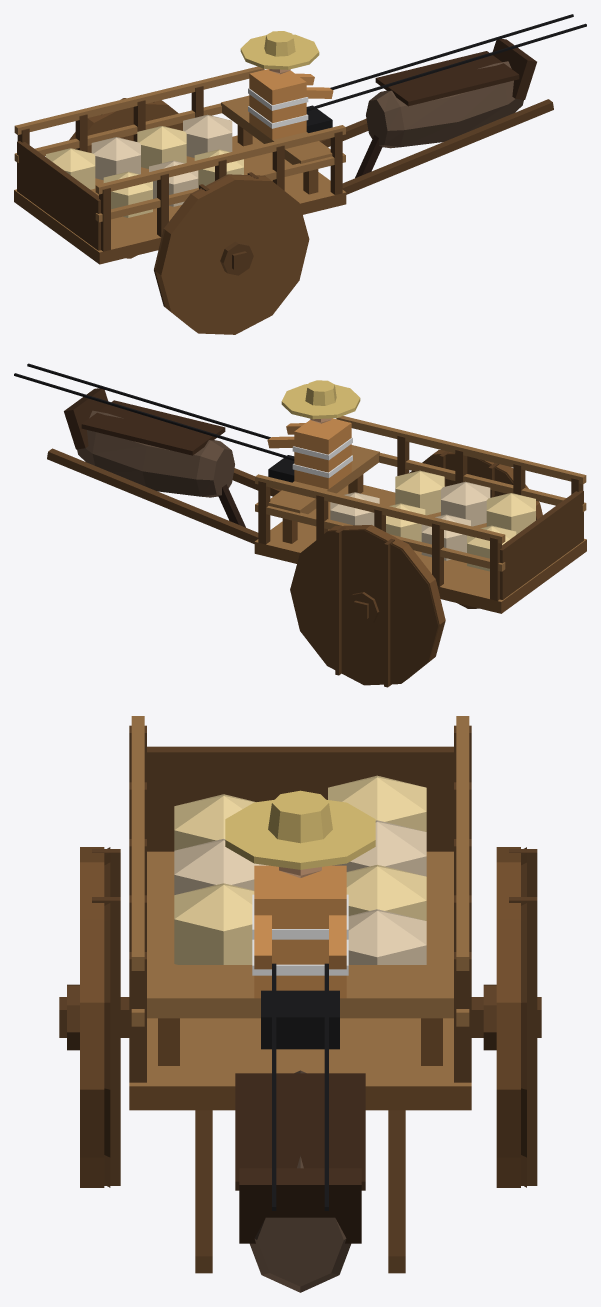
The model's file is carreta_mula_body.obj.
3 views of the same model, one above another, from view 1: azimuth 30°, elevation 25°; view 2: azimuth 150°, elevation 25°; view 3: azimuth 270°, elevation 25° (orthographic). The views are drawn at different scales.
Parts seen in each view (by area): view 1: carreta_mula_body; view 2: carreta_mula_body; view 3: carreta_mula_body.
Boxes of the visible parts, x1=… form: carreta_mula_body: x1=14, y1=14, x2=586, y2=334; carreta_mula_body: x1=14, y1=363, x2=586, y2=687; carreta_mula_body: x1=59, y1=716, x2=541, y2=1292.
Size of the model in its own units: 5.51 by 2.35 by 2.2.
